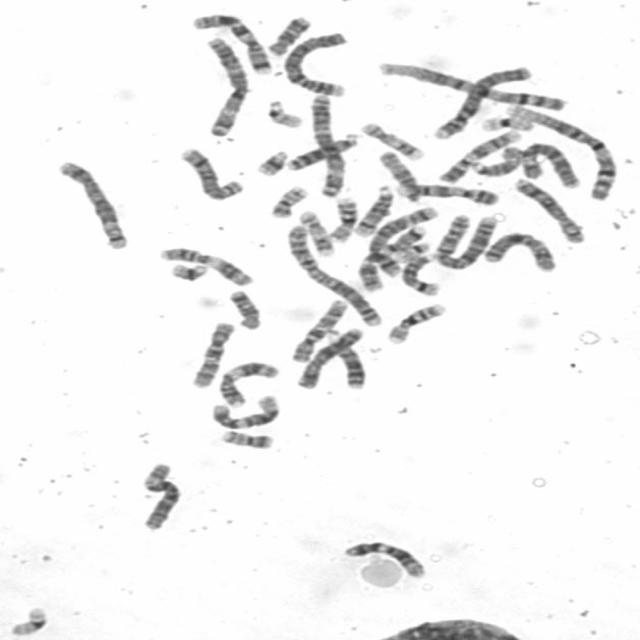A1: (504, 101, 620, 202), (371, 56, 573, 113)
A2: (280, 222, 384, 327), (429, 210, 502, 270)
A3: (200, 34, 252, 138), (306, 91, 349, 199)
B4: (428, 61, 534, 141), (279, 27, 352, 98)
B5: (355, 201, 440, 295), (53, 156, 131, 251)
C10: (287, 296, 350, 362), (186, 317, 238, 389)
C11: (156, 244, 256, 288), (215, 356, 282, 408)
C12: (337, 536, 429, 579), (205, 392, 283, 431)
C6: (515, 139, 586, 190), (136, 459, 184, 532)
C7: (355, 201, 440, 295), (185, 8, 275, 75)
C8: (508, 173, 588, 244), (173, 144, 247, 202)
C9: (434, 128, 523, 184), (392, 180, 502, 207)
D13: (283, 129, 362, 172), (320, 326, 370, 391)
D14: (350, 181, 397, 237), (394, 248, 442, 298)
D15: (374, 148, 424, 202), (466, 143, 526, 178)
E16: (384, 299, 449, 346), (324, 193, 360, 243)
E17: (355, 118, 428, 162), (295, 207, 337, 257)
E18: (262, 11, 314, 56), (223, 286, 263, 332)
F19: (3, 603, 51, 637), (476, 112, 534, 132)
F20: (264, 180, 310, 219), (216, 426, 274, 450)
G21: (250, 146, 290, 178), (164, 260, 208, 282)
G22: (262, 96, 306, 130), (390, 237, 434, 262)
X: (293, 324, 366, 391), (479, 228, 559, 274)
